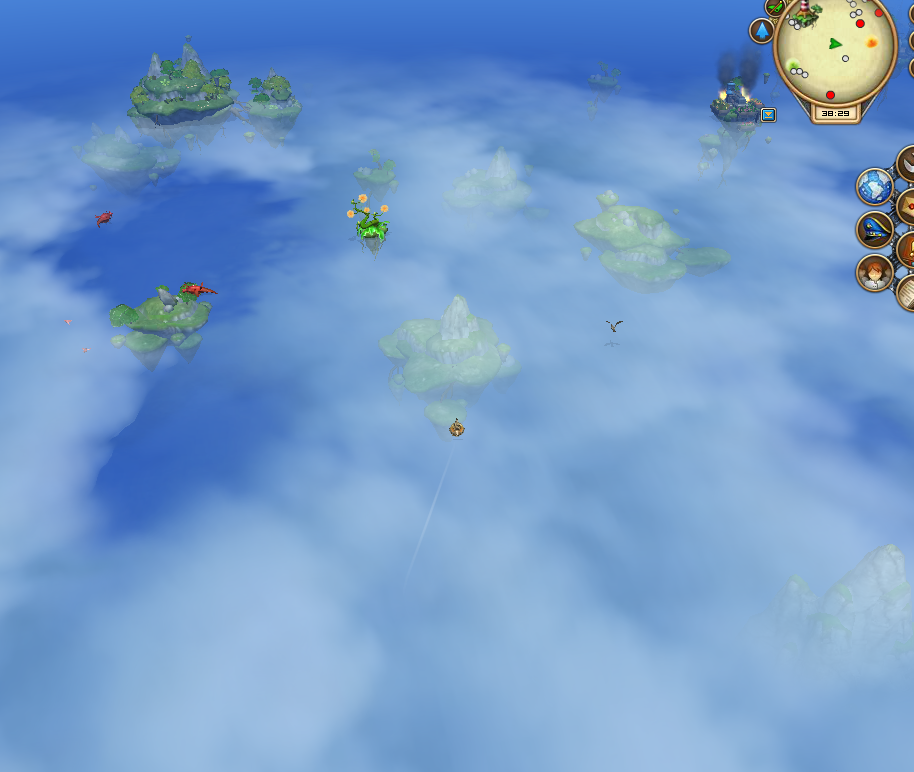dandelion-full: (342, 188, 395, 253)
